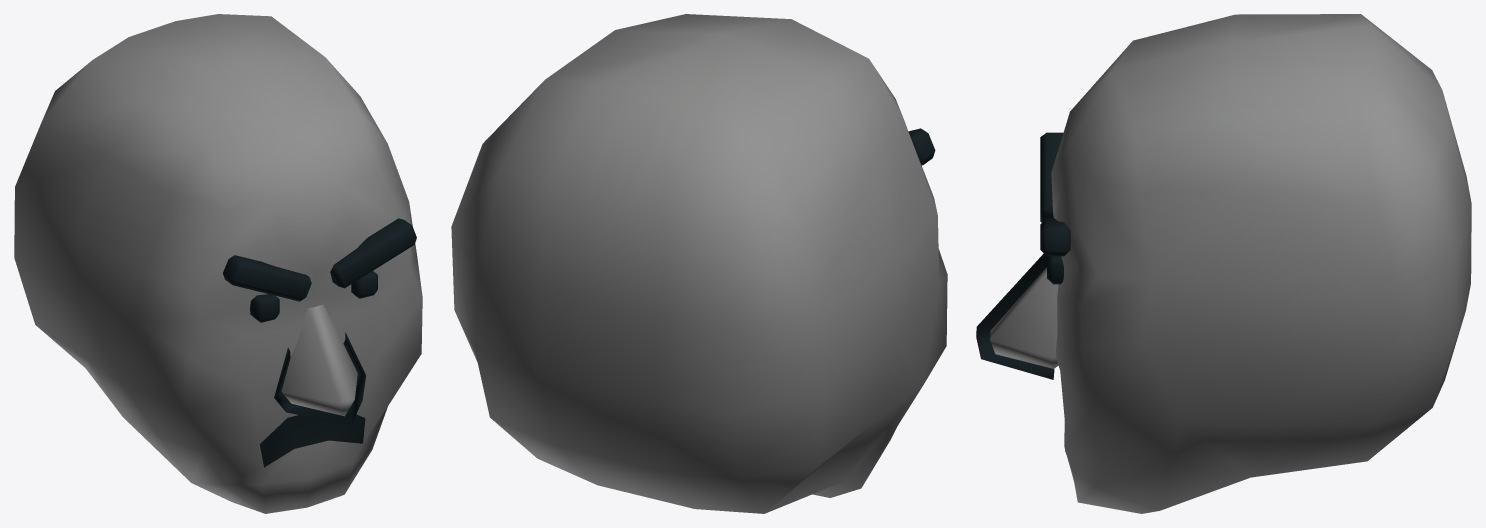
Rendered from head_angry_NPC.fbx.
3 renders of one model, left to right at view 1: azimuth 30°, elevation 25°; view 2: azimuth 150°, elevation 25°; view 3: azimuth 270°, elevation 25°, orthographic. The views are drawn at different scales.
Parts seen in each view (by area): view 1: head_angry_NPC; view 2: head_angry_NPC; view 3: head_angry_NPC.
Part boxes in pixels (left/top/right/bottom): head_angry_NPC: left=14, top=14, right=422, bottom=513; head_angry_NPC: left=451, top=14, right=947, bottom=513; head_angry_NPC: left=976, top=14, right=1471, bottom=513.
Size of the model in its own units: 47 by 59.28 by 58.92.
